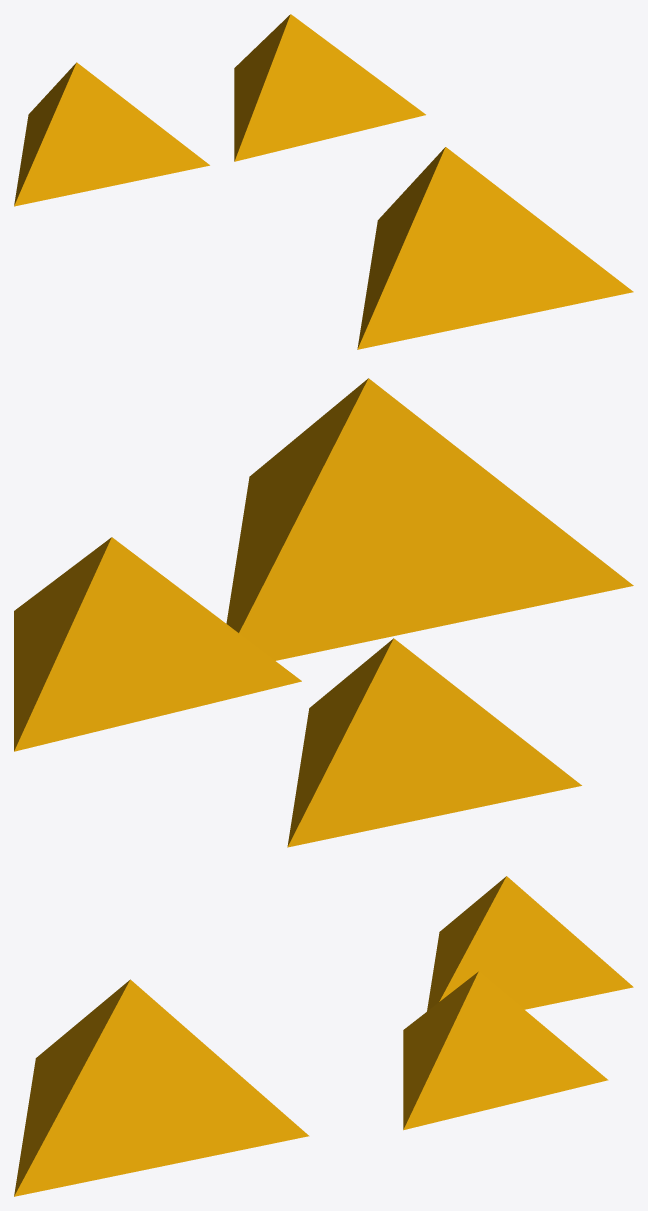
The model's file is desert1.fbx.
The picture shows the model from 3 angles, top to bottom: view 1: azimuth 30°, elevation 25°; view 2: azimuth 150°, elevation 25°; view 3: azimuth 270°, elevation 25°; orthographic projection. The views are drawn at different scales.
Visible parts, largest first — view 1: Circle.002, Circle.001, Circle.003; view 2: Circle.002, Circle.001, Circle.003; view 3: Circle.002, Circle.001, Circle.003.
Part boxes in pixels (x1,y1,x2,y2): Circle.002: [357, 147, 633, 349]; Circle.001: [234, 14, 425, 161]; Circle.003: [14, 62, 209, 206]; Circle.002: [226, 378, 633, 660]; Circle.001: [14, 537, 301, 751]; Circle.003: [287, 638, 581, 847]; Circle.002: [14, 979, 309, 1196]; Circle.001: [403, 971, 608, 1130]; Circle.003: [427, 876, 633, 1011].
Size of the model in its own units: 1895 by 645 by 2262.
